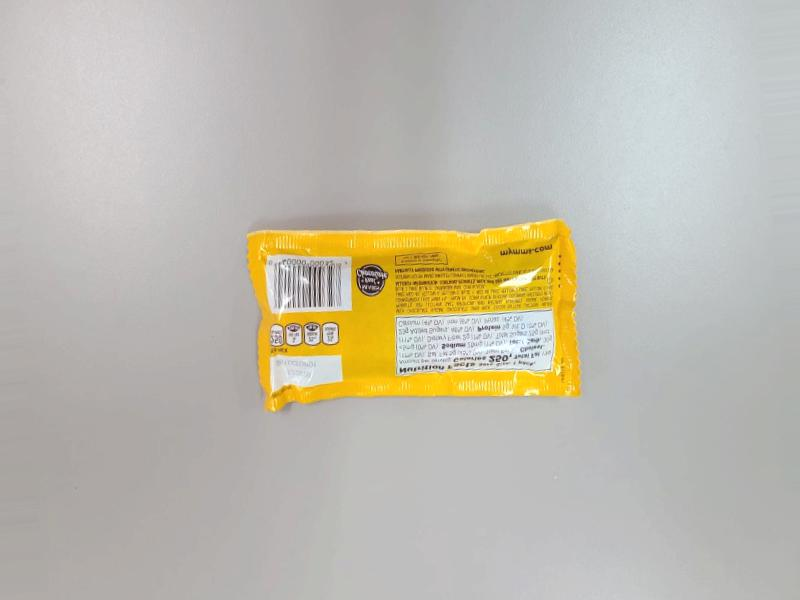m&m: (193, 214, 593, 393)
